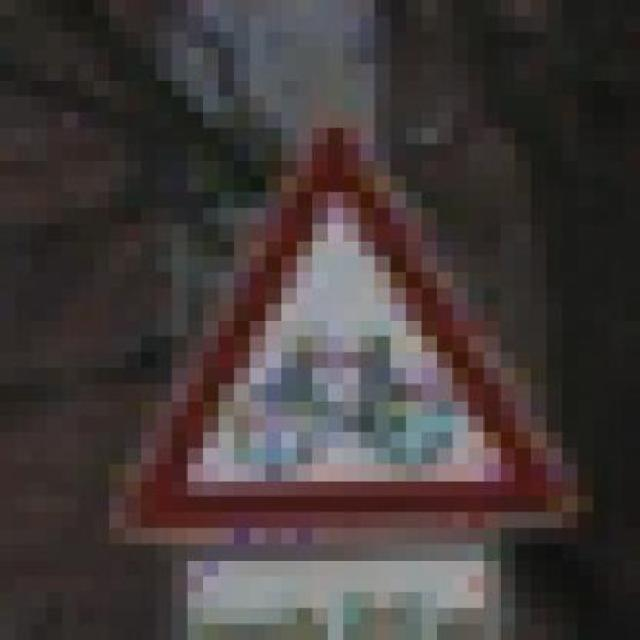CYCLE ROUTE AHEAD WARNING: (109, 112, 594, 560)
